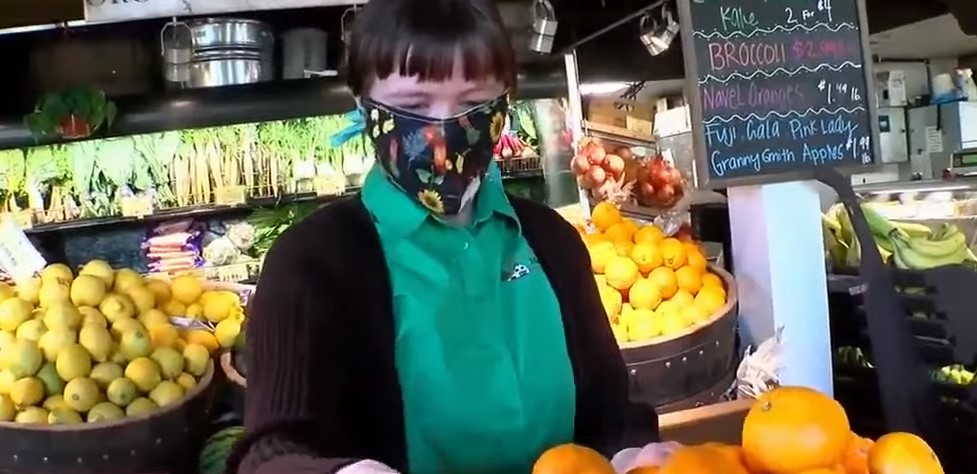face_with_mask: (348, 3, 518, 223)
